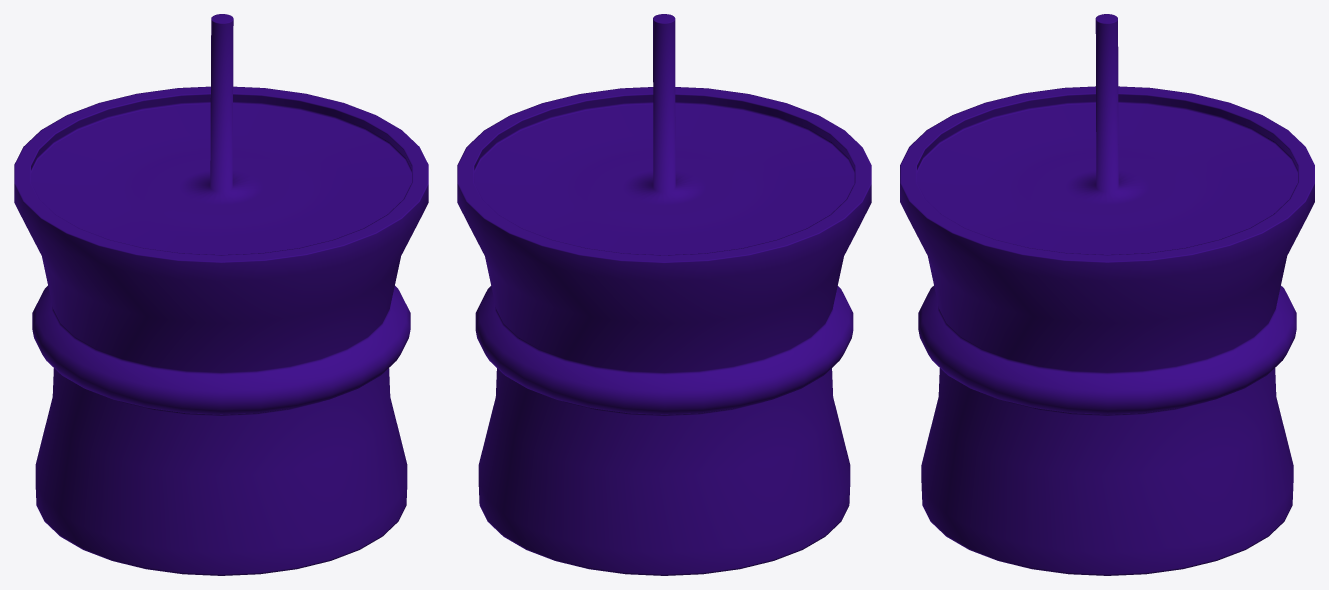
Rendered from candleholder2.fbx.
The picture shows the model from 3 angles, left to right: view 1: azimuth 30°, elevation 25°; view 2: azimuth 150°, elevation 25°; view 3: azimuth 270°, elevation 25°; orthographic projection.
Parts seen in each view (by area): view 1: candleholder2; view 2: candleholder2; view 3: candleholder2.
Boxes of the visible parts, box(x1,y1,x2,y2) form: candleholder2: box(14, 14, 428, 575); candleholder2: box(457, 14, 871, 575); candleholder2: box(900, 14, 1314, 575).
Bounding box in the file's own units: 12.32 × 15.62 × 12.25.
